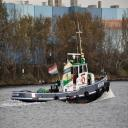tugboat: (11, 10, 112, 108)
